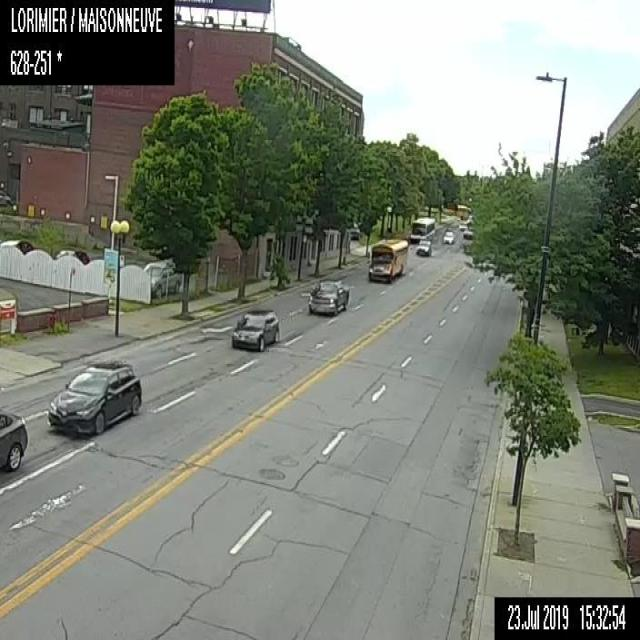bus: (367, 238, 407, 282), (409, 216, 435, 241)
vehicle: (44, 358, 142, 434), (230, 307, 280, 352), (0, 404, 28, 472), (307, 278, 349, 316), (143, 261, 181, 296), (53, 247, 89, 264), (0, 239, 34, 253), (415, 240, 431, 256), (443, 231, 454, 243), (463, 228, 473, 239), (458, 220, 468, 229)
